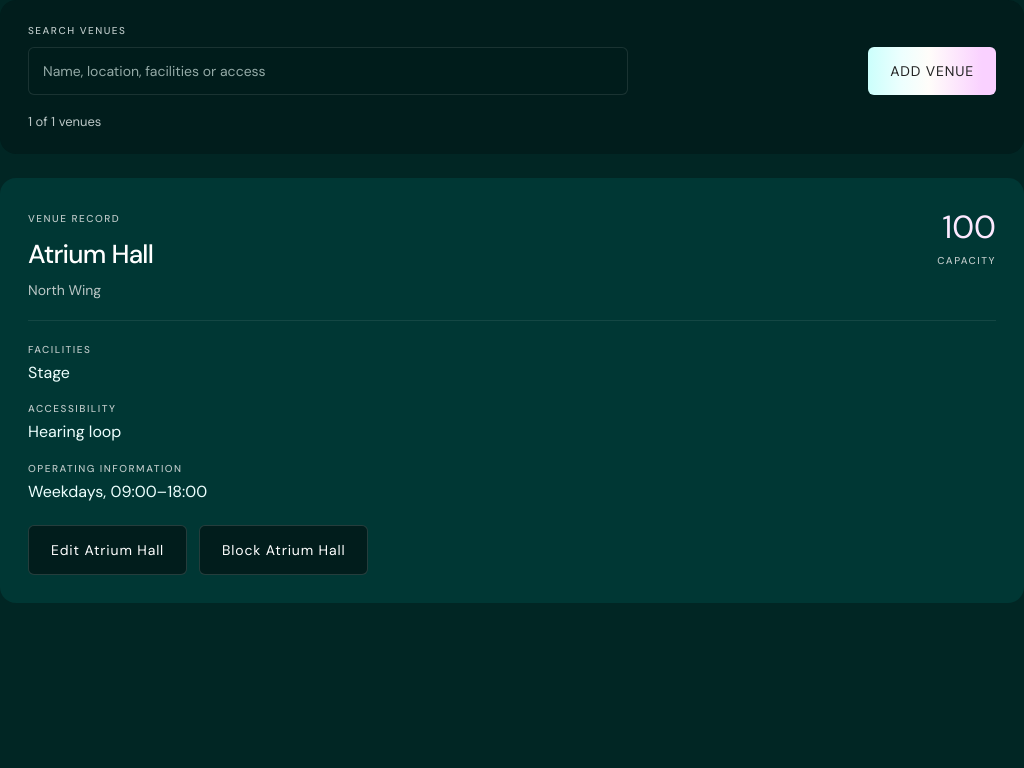
Test case: [NORMAL] [SG2-45:AC1] [SG2-80:AC1] blocking a free period with a reason and a note records it and shows it in the list, earliest first
Click the button "Block Atrium Hall": (284, 550) [199,525,368,575]
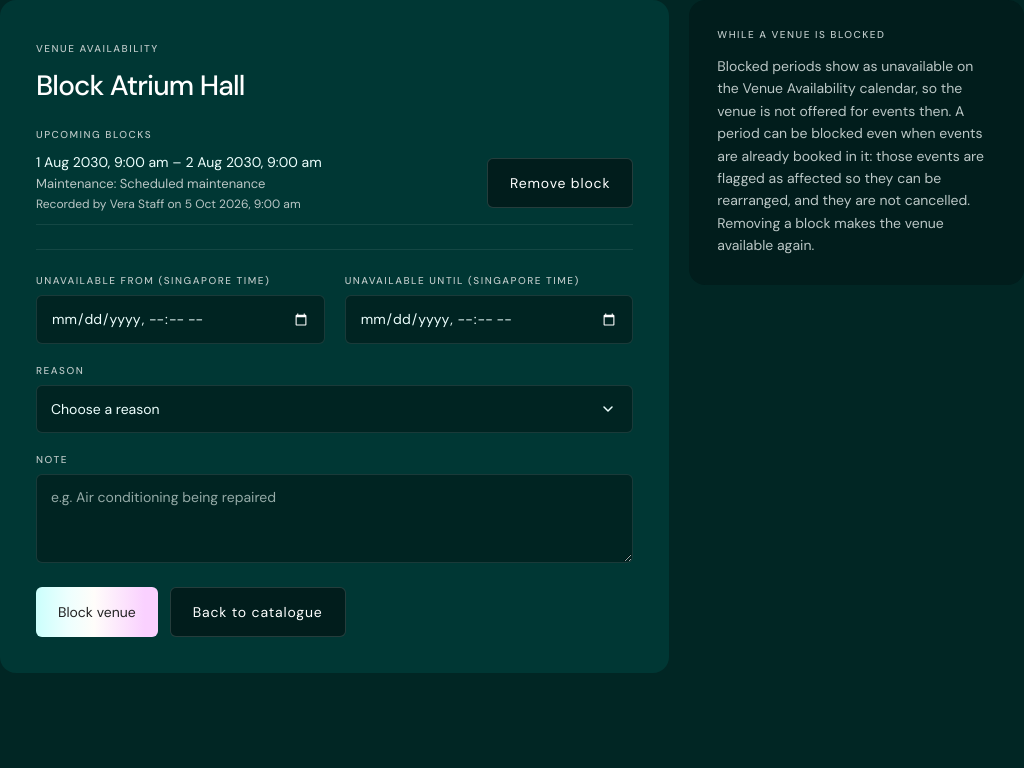
Expected: the heading "Block Atrium Hall" is shown, [36,67,245,104]
Expected: the list item "Scheduled maintenance" is shown, [36,153,633,225]
In the field labelled "Unavailable from (Singapore time)": (180, 320) [36,295,325,344], type "2030-07-01T09:00"
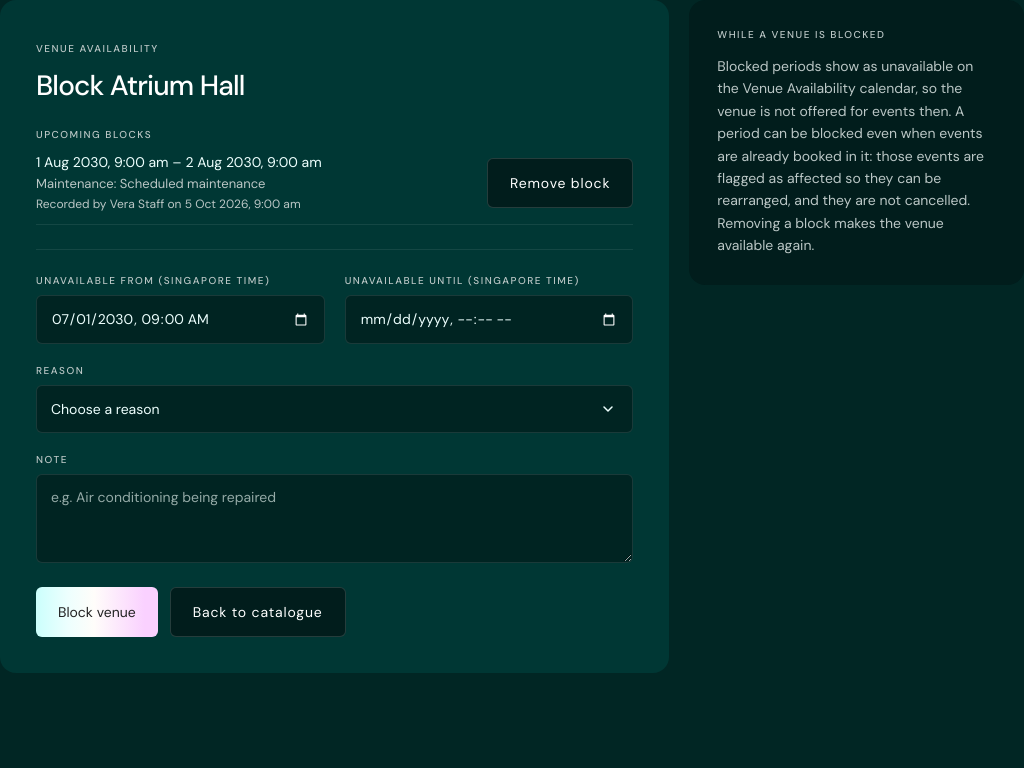
In the field labelled "Unavailable until (Singapore time)": (489, 320) [345,295,633,344], type "2030-07-01T17:00"
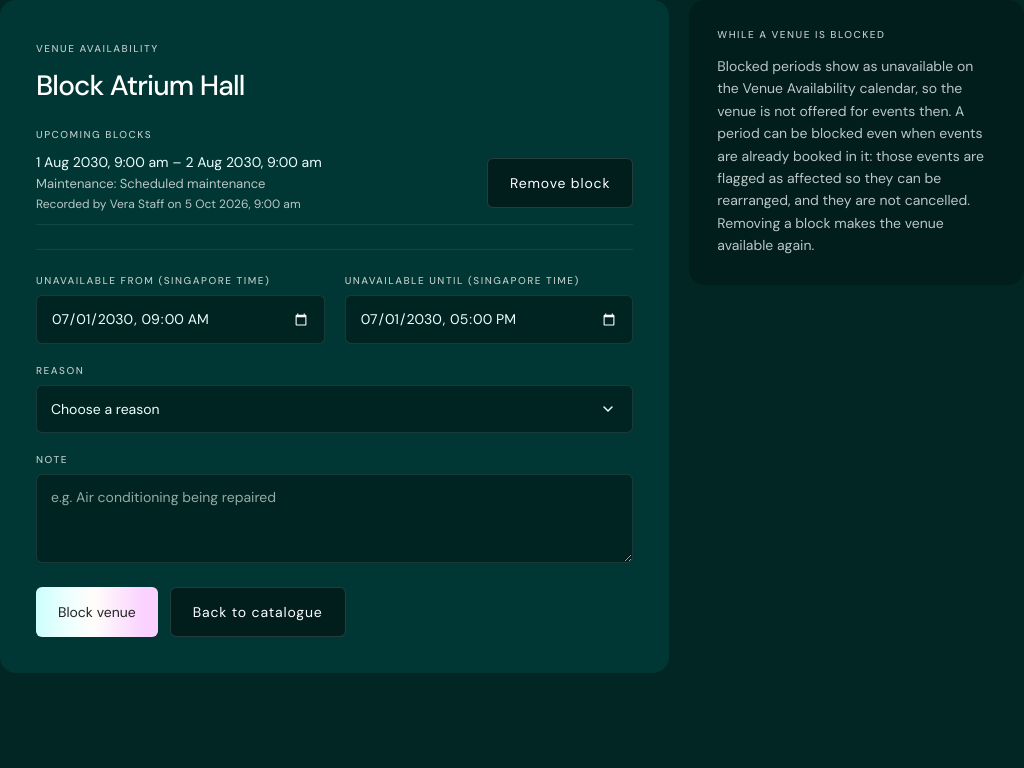
Select "Renovation" in the dropdown labelled "Reason": (335, 409) [36,385,633,433]
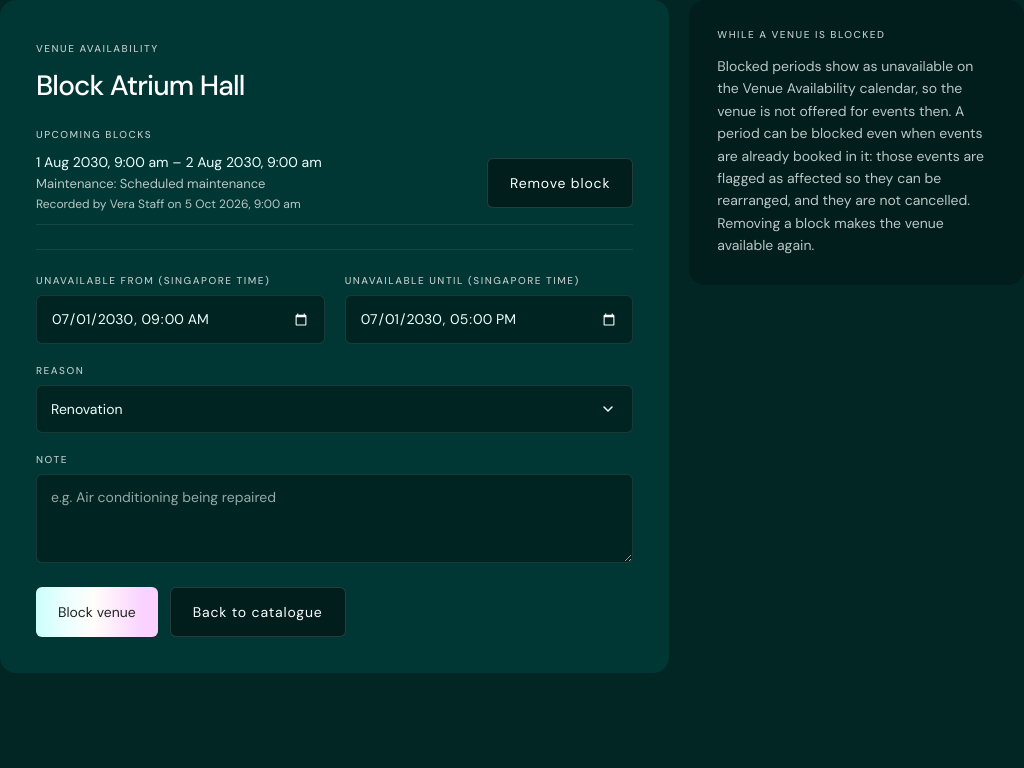
In the text box labelled "Note": (335, 518) [36,474,633,563], type "  Carpet replacement "
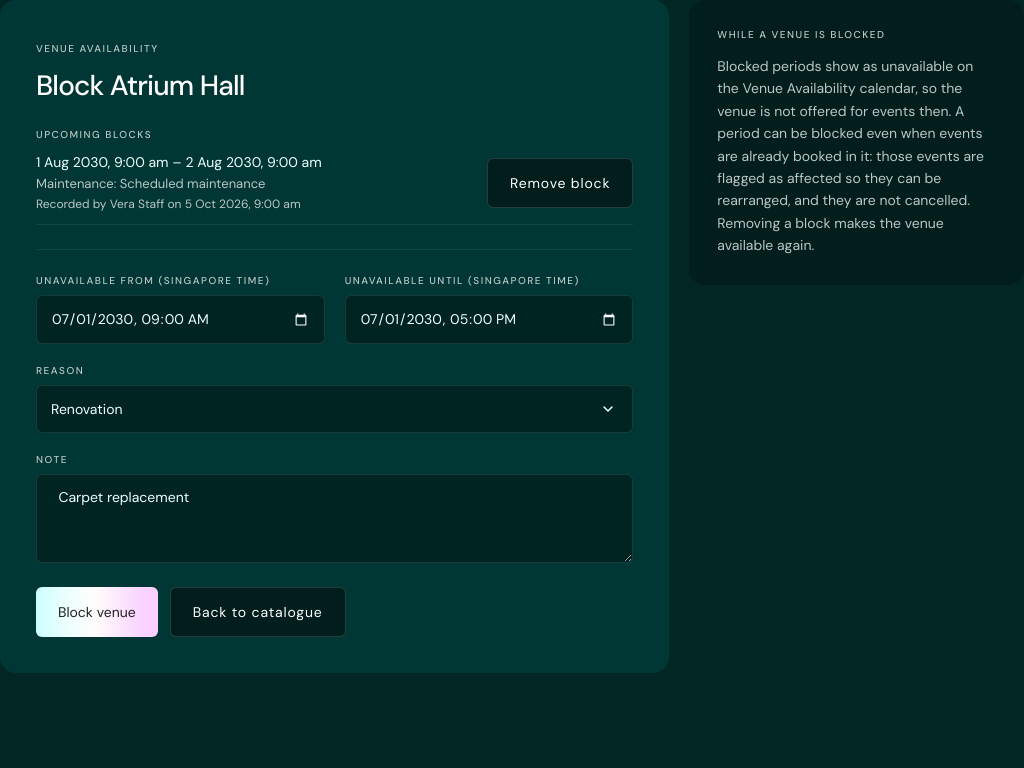
Submit the form named "Block venue", box [36,249,633,637]
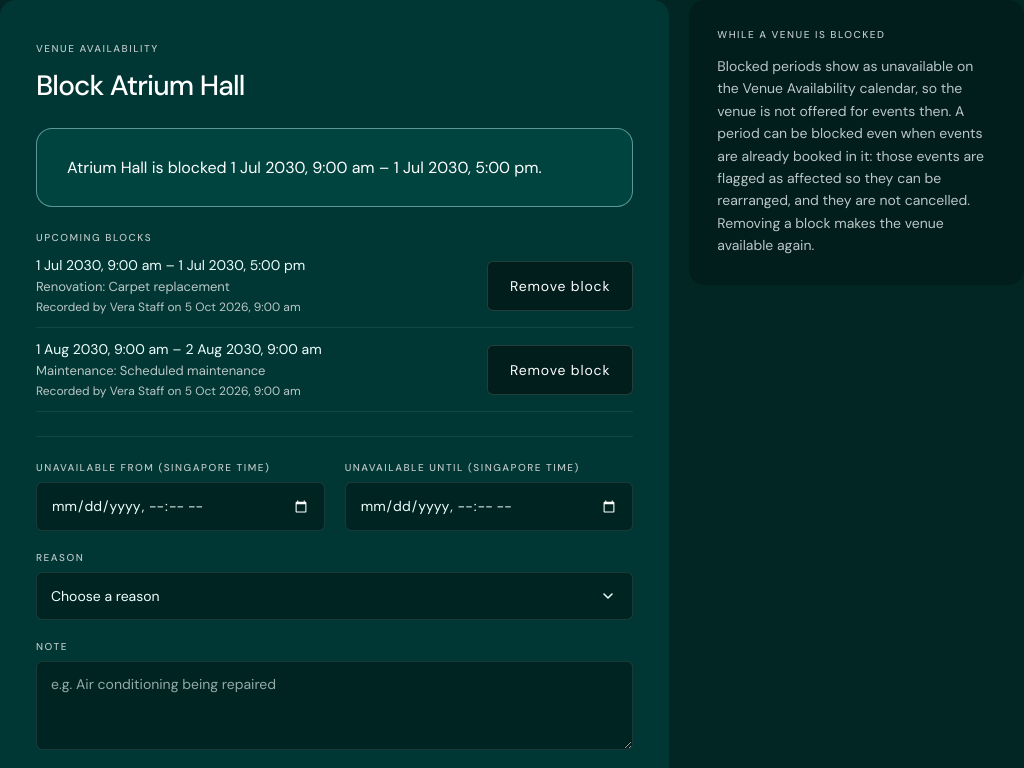
Expected: the message reads "Atrium Hall is blocked 1 Jul 2030, 9:00 am – 1 Jul 2030, 5:00 pm.", [67,157,542,178]
Expected: the list item "Carpet replacement" shows "Renovation: Carpet replacement", [36,256,633,328]
Expected: the text box labelled "Note" is empty, [36,661,633,750]
